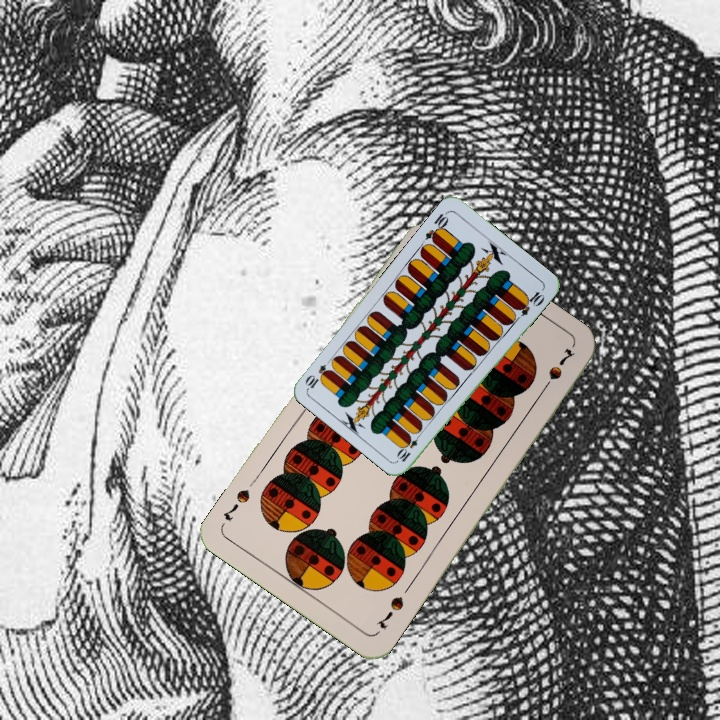E10: (421, 207, 452, 245), (394, 428, 424, 464)
S7: (371, 592, 407, 631)
